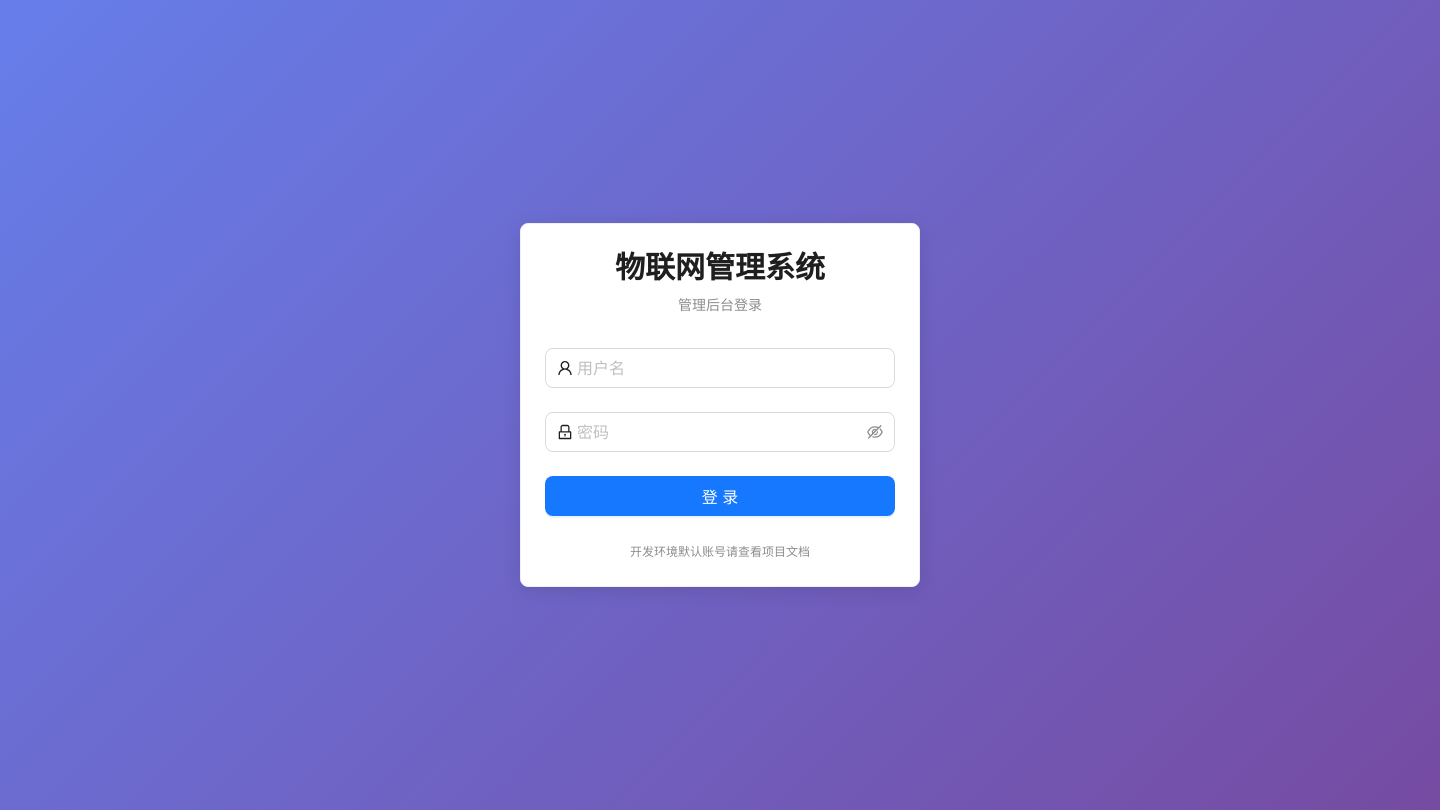
Scenario: Login › should require password field
This screenshot has width=1440, height=810.
Type "admin" into the field with placeholder "用户名" at x=730, y=368, box [577, 356, 883, 380]
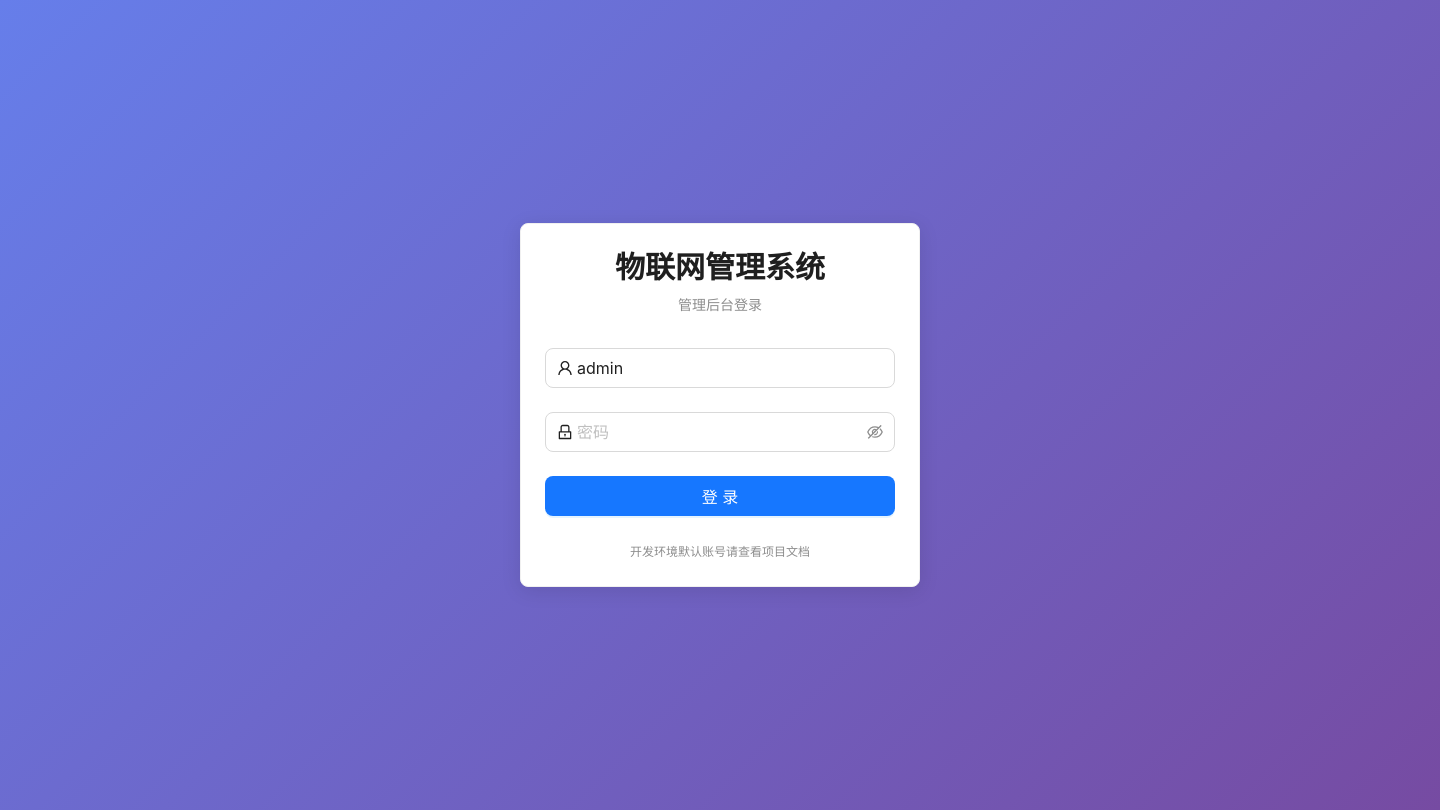
Click the button "登 录" at x=720, y=496, box [545, 476, 895, 516]
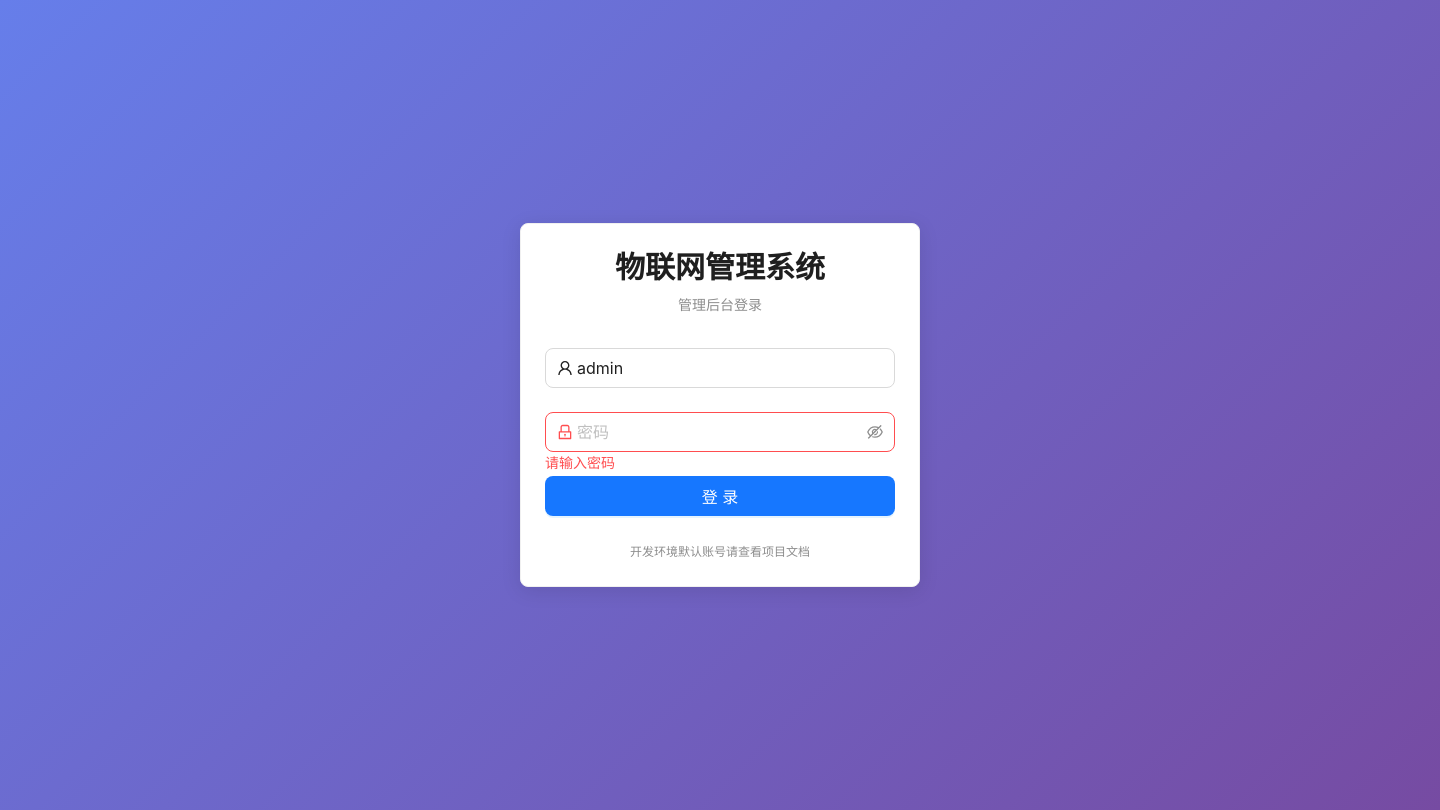
Check: the text "请输入密码" is shown, box [545, 454, 615, 471]
